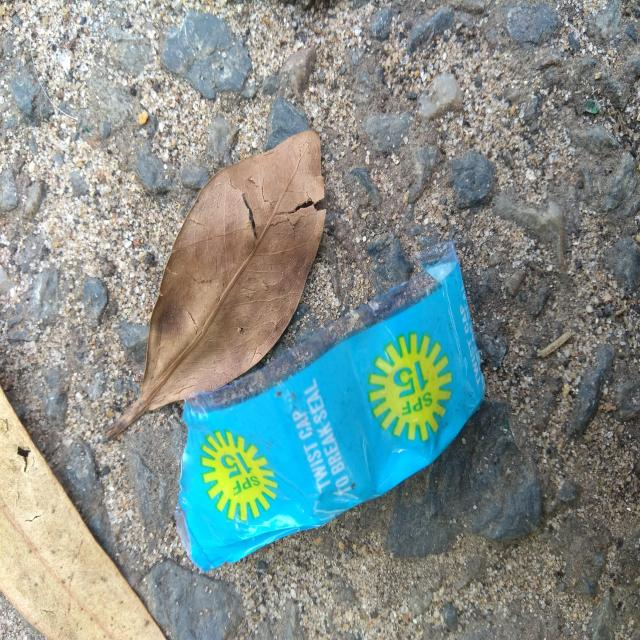litter: (177, 243, 484, 568)
